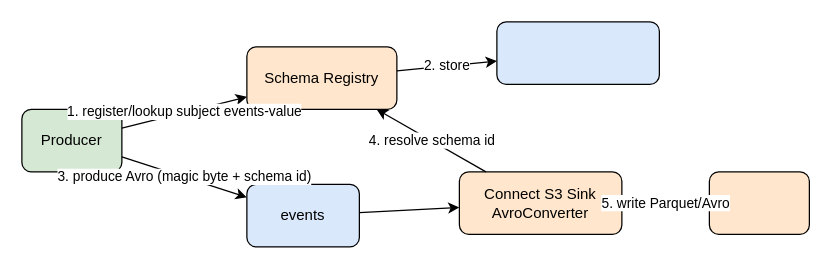
The diagram is 831 pixels wide and 269 high, and some of its shapes have lost their labels. The shapes that lost their labels are listed below. From the top down, each one's box as (x1, y1, x2, y2) in pixels, then its label:
(496, 21, 659, 84): _schemas topic RF=3, compact
(708, 171, 809, 234): S3
